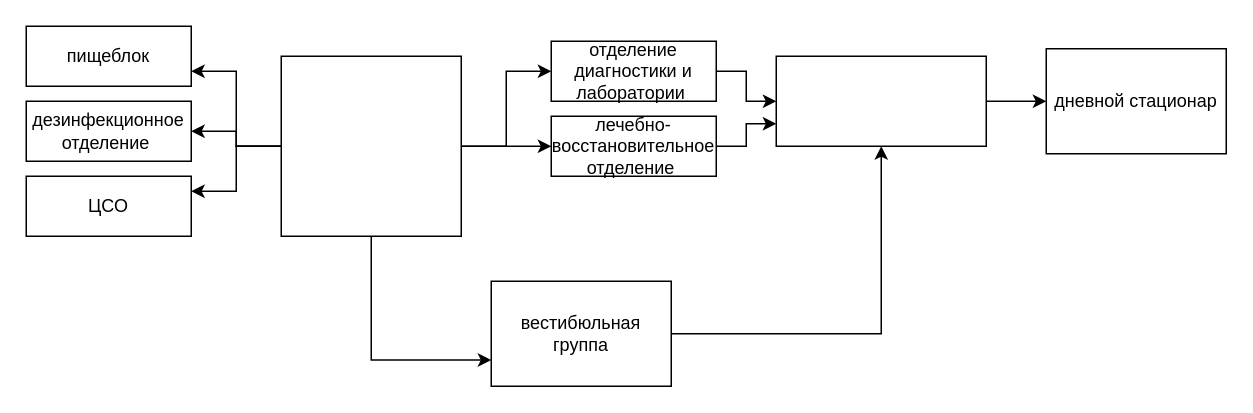
Some shapes in this 1253 by 413 pixel diagram are drawn without their labels. Each missing label, with the centre of its shape:
"поликлиническое отделение" belongs at (x=880, y=100).
"приемное отделение" belongs at (x=370, y=145).
